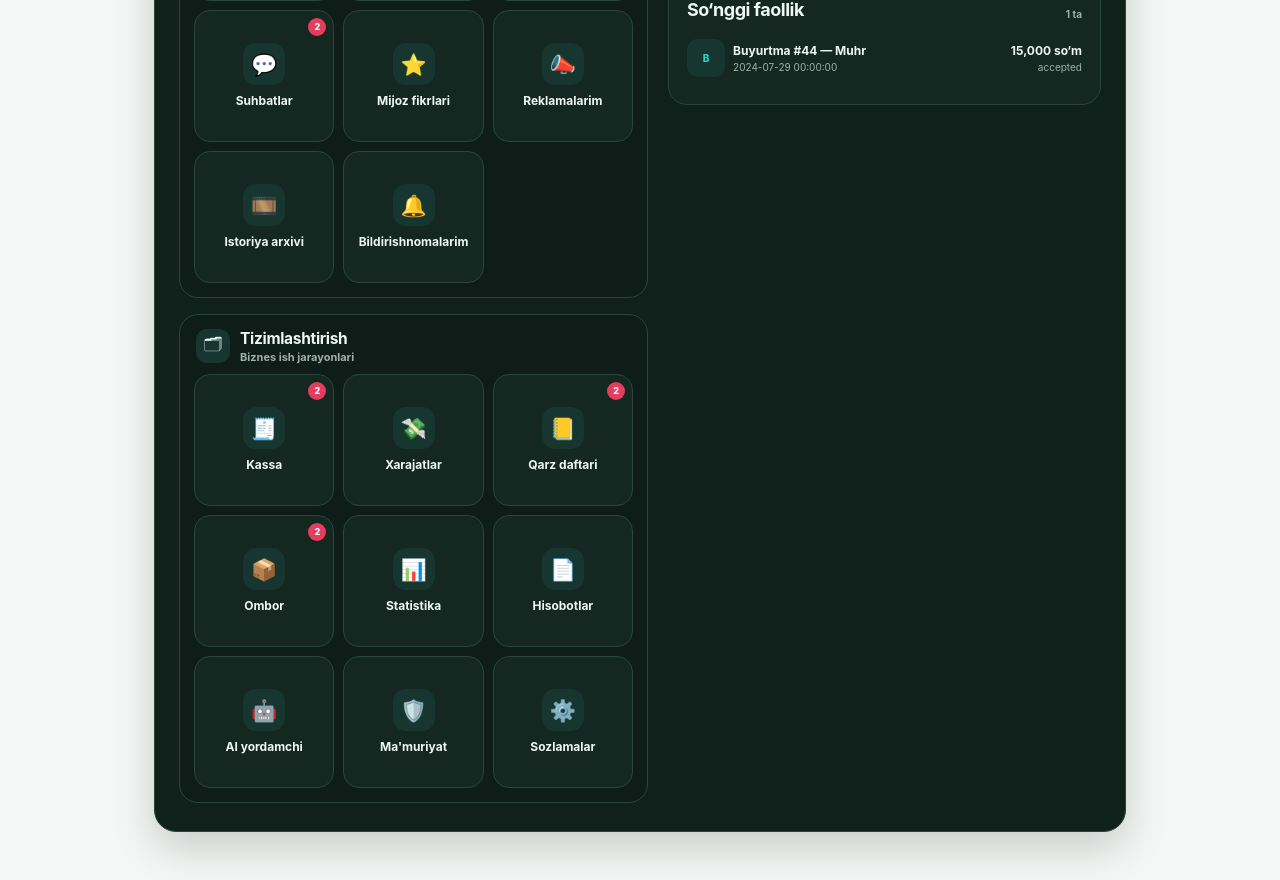
profile cabinets › opens the live typed Kassa instead of the legacy payload list
(page scrolled)
Click the button "🧾 Kassa 2": point(264, 440) [194,374,334,506]
(page scrolled)
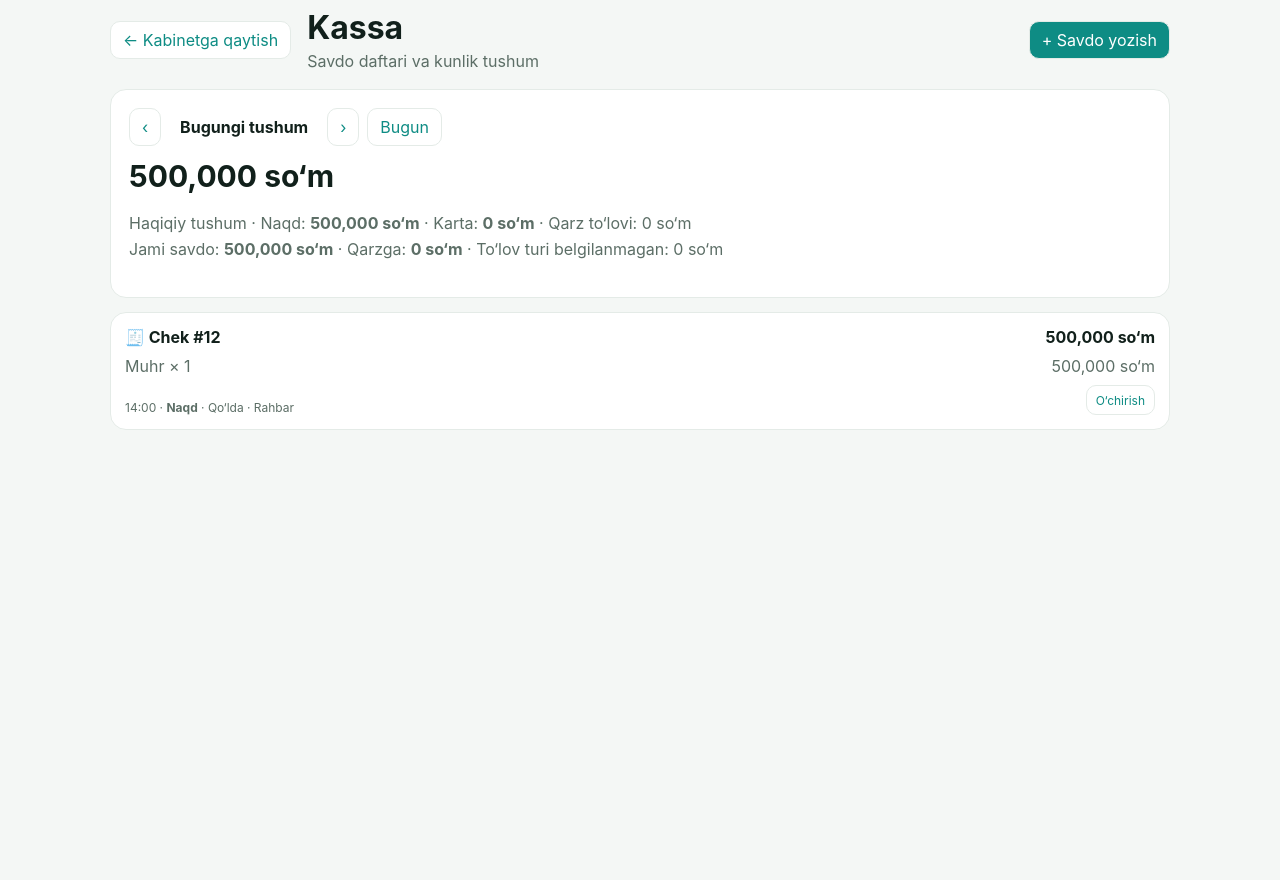
Now the text "🧾 Chek #12" is shown, box [125,327,220,347]
